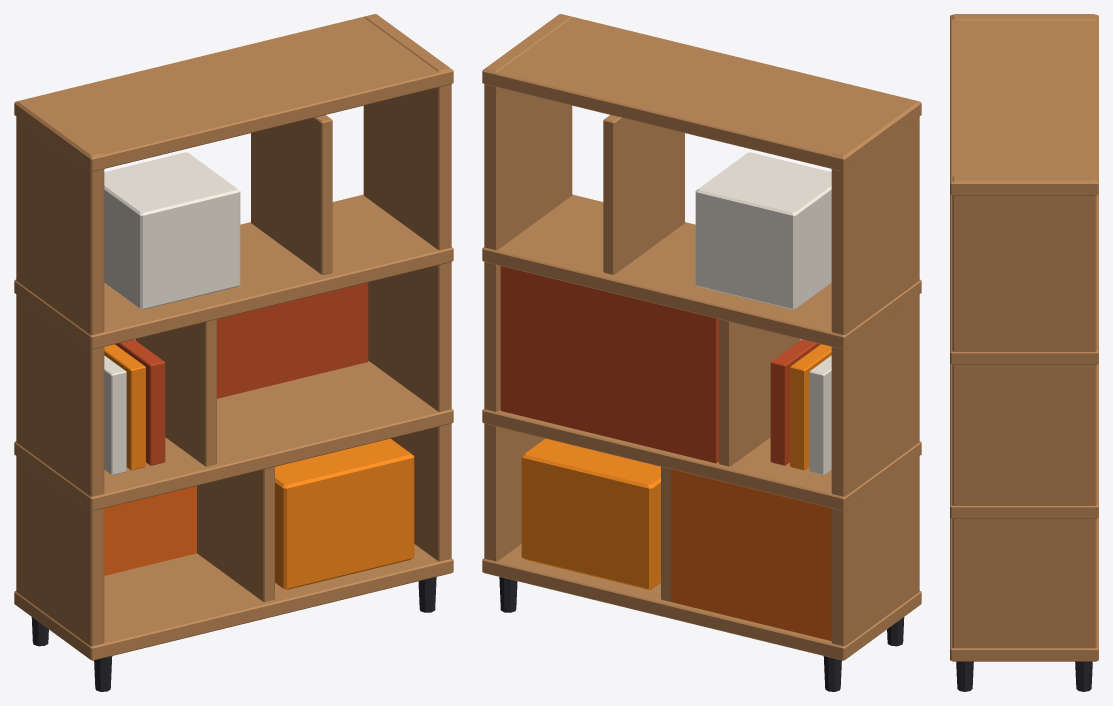
The model's file is ModernBookshelf.obj.
3 views of the same model, side by side, from view 1: azimuth 30°, elevation 25°; view 2: azimuth 150°, elevation 25°; view 3: azimuth 270°, elevation 25° (orthographic). The views are drawn at different scales.
Visible parts, largest first — view 1: ModernBookshelf_Wood_Oak, ModernBookshelf_Fabric_Cream, ModernBookshelf_Accent_VibrantOrange, ModernBookshelf_Fabric_Terracotta, ModernBookshelf_Fabric_OrangeMain, ModernBookshelf_Metal_Charcoal; view 2: ModernBookshelf_Wood_Oak, ModernBookshelf_Fabric_Terracotta, ModernBookshelf_Fabric_OrangeMain, ModernBookshelf_Fabric_Cream, ModernBookshelf_Accent_VibrantOrange, ModernBookshelf_Metal_Charcoal; view 3: ModernBookshelf_Wood_Oak, ModernBookshelf_Metal_Charcoal.
Boxes of the visible parts, x1=… form: ModernBookshelf_Wood_Oak: x1=14, y1=14, x2=453, y2=660; ModernBookshelf_Fabric_Cream: x1=104, y1=152, x2=240, y2=474; ModernBookshelf_Accent_VibrantOrange: x1=104, y1=344, x2=414, y2=589; ModernBookshelf_Fabric_Terracotta: x1=115, y1=282, x2=368, y2=465; ModernBookshelf_Fabric_OrangeMain: x1=104, y1=486, x2=196, y2=575; ModernBookshelf_Metal_Charcoal: x1=31, y1=577, x2=436, y2=691; ModernBookshelf_Wood_Oak: x1=482, y1=14, x2=921, y2=660; ModernBookshelf_Fabric_Terracotta: x1=500, y1=266, x2=820, y2=465; ModernBookshelf_Fabric_OrangeMain: x1=671, y1=469, x2=831, y2=640; ModernBookshelf_Fabric_Cream: x1=695, y1=152, x2=831, y2=474; ModernBookshelf_Accent_VibrantOrange: x1=521, y1=344, x2=831, y2=589; ModernBookshelf_Metal_Charcoal: x1=499, y1=577, x2=904, y2=691; ModernBookshelf_Wood_Oak: x1=950, y1=14, x2=1098, y2=661; ModernBookshelf_Metal_Charcoal: x1=956, y1=661, x2=1092, y2=691.
Size of the model in its own units: 0.94 by 1.34 by 0.35.
